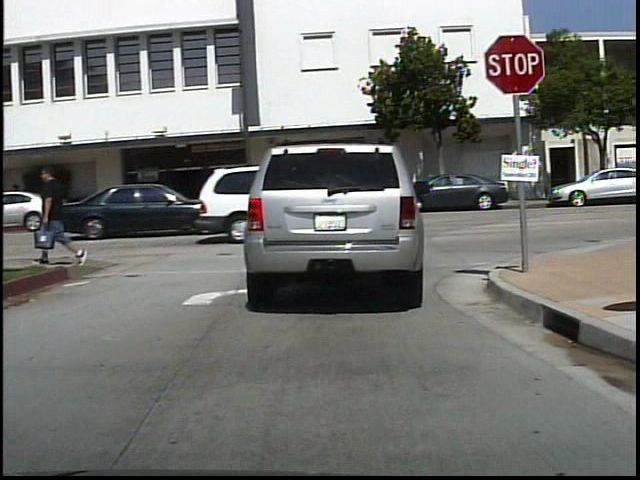person: (32, 161, 95, 267), (41, 179, 66, 226), (8, 177, 31, 222)
